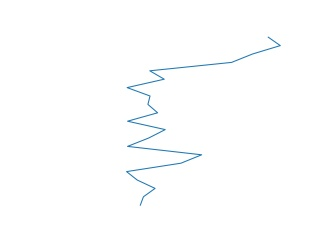crevasseRiverChannelBar: (118, 34, 287, 209)
